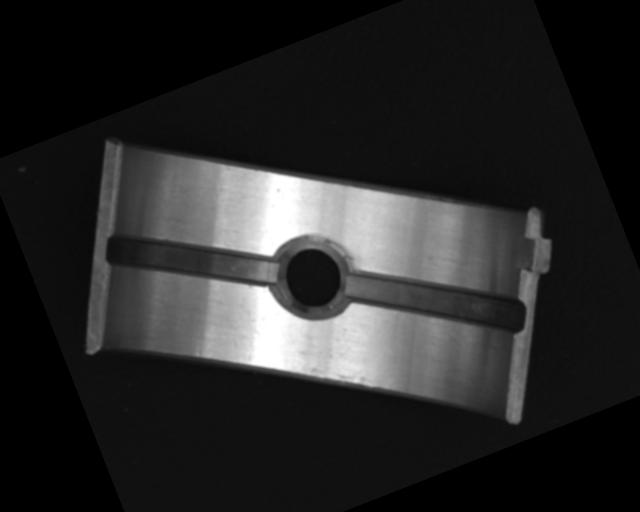gap: (342, 219, 532, 388), (101, 182, 283, 335)
hole: (266, 224, 356, 324)
